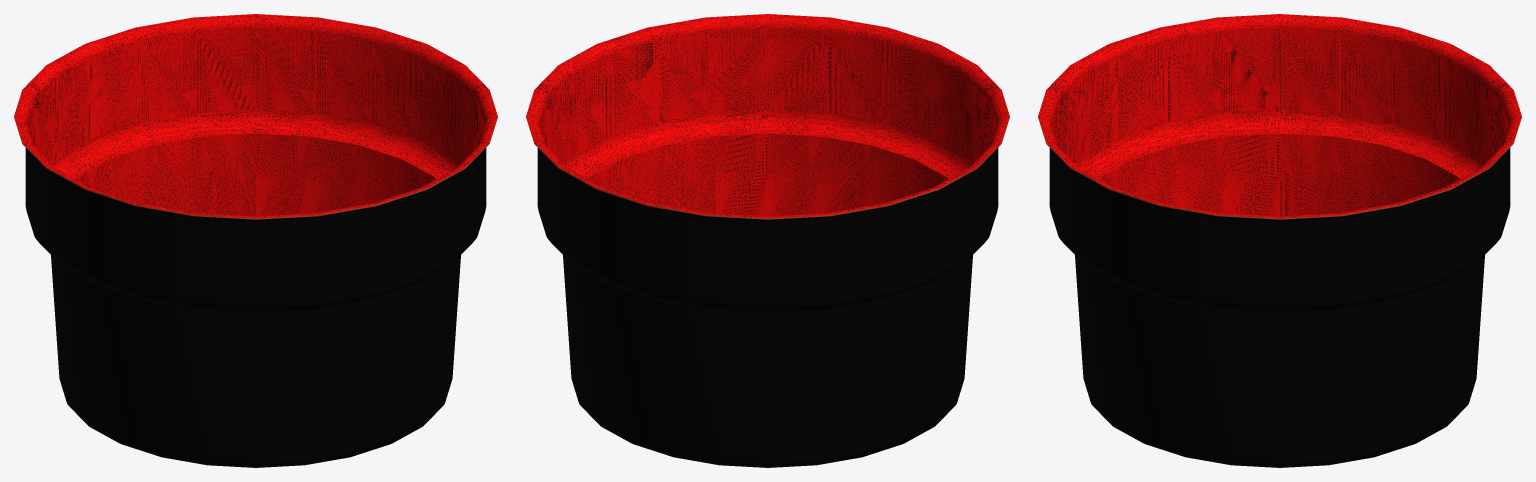
Rendered from pot_01_origin_gt_4.dae.
3 renders of one model, left to right at view 1: azimuth 30°, elevation 25°; view 2: azimuth 150°, elevation 25°; view 3: azimuth 270°, elevation 25°, orthographic.
Visible parts, largest first — view 1: group_0 (×6); view 2: group_0 (×6); view 3: group_0 (×6).
Part boxes in pixels (<box>): group_0 (×6): <box>14,14,497,467</box>; group_0 (×6): <box>526,14,1009,467</box>; group_0 (×6): <box>1038,14,1521,467</box>.
Bounding box in the file's own units: 7.88 × 7.88 × 5.04.
